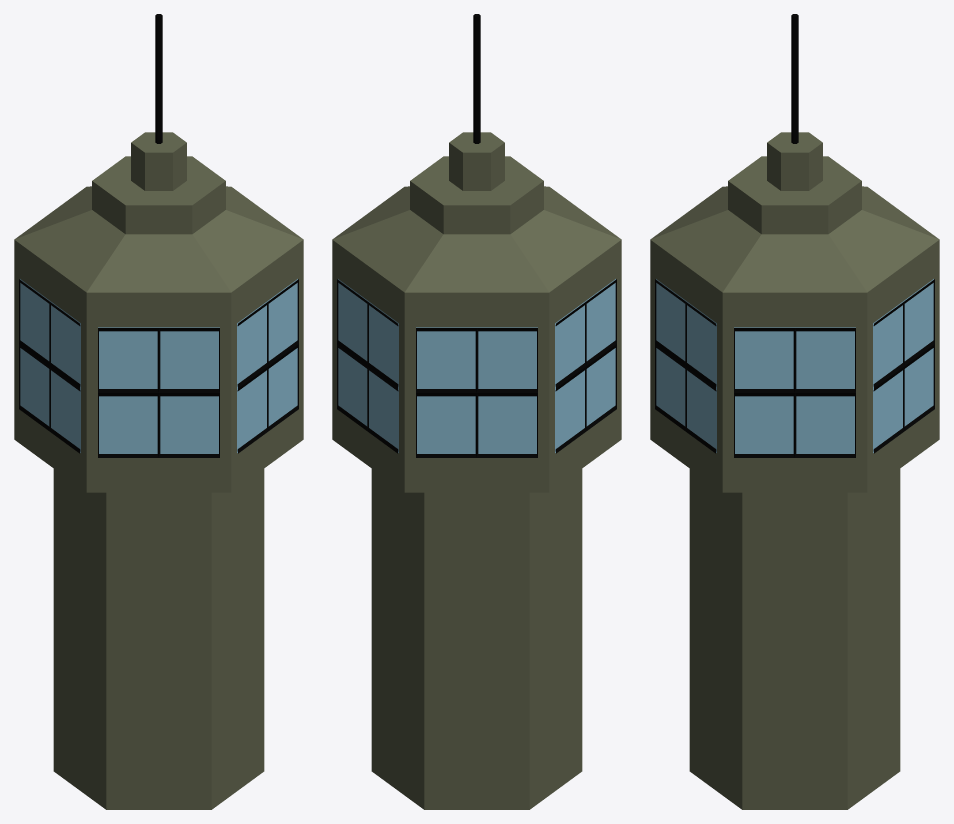
File: Tower.fbx
3 views of the same model, side by side, from view 1: azimuth 30°, elevation 25°; view 2: azimuth 150°, elevation 25°; view 3: azimuth 270°, elevation 25° (orthographic).
Visible parts, largest first — view 1: Cylinder.001; view 2: Cylinder.001; view 3: Cylinder.001.
Boxes of the visible parts, x1,y1,x2,y2 form: Cylinder.001: (14,14,303,809); Cylinder.001: (332,14,621,809); Cylinder.001: (650,14,939,809).
Size of the model in its own units: 525 by 1730 by 600.
